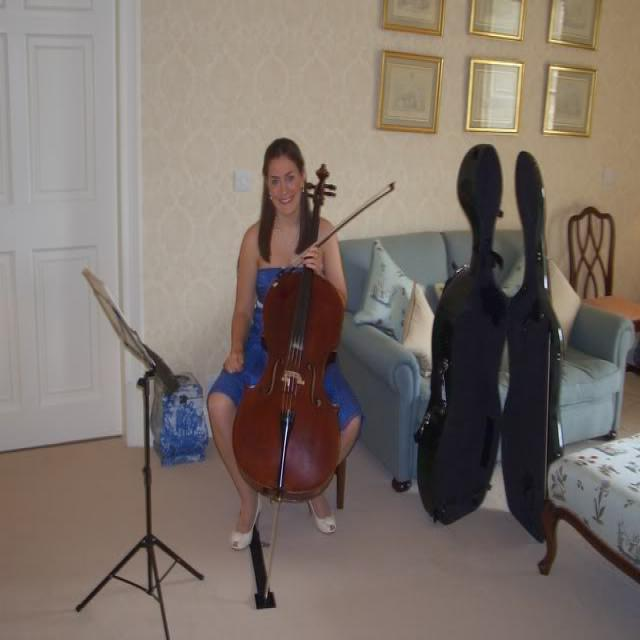cello: (229, 162, 342, 502)
